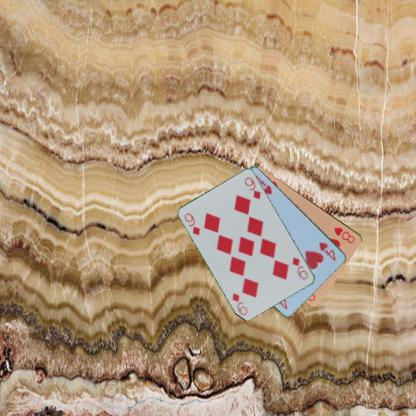4h: (316, 240, 338, 262)
8h: (331, 225, 357, 244)
9d: (182, 210, 202, 237), (290, 255, 310, 281)
